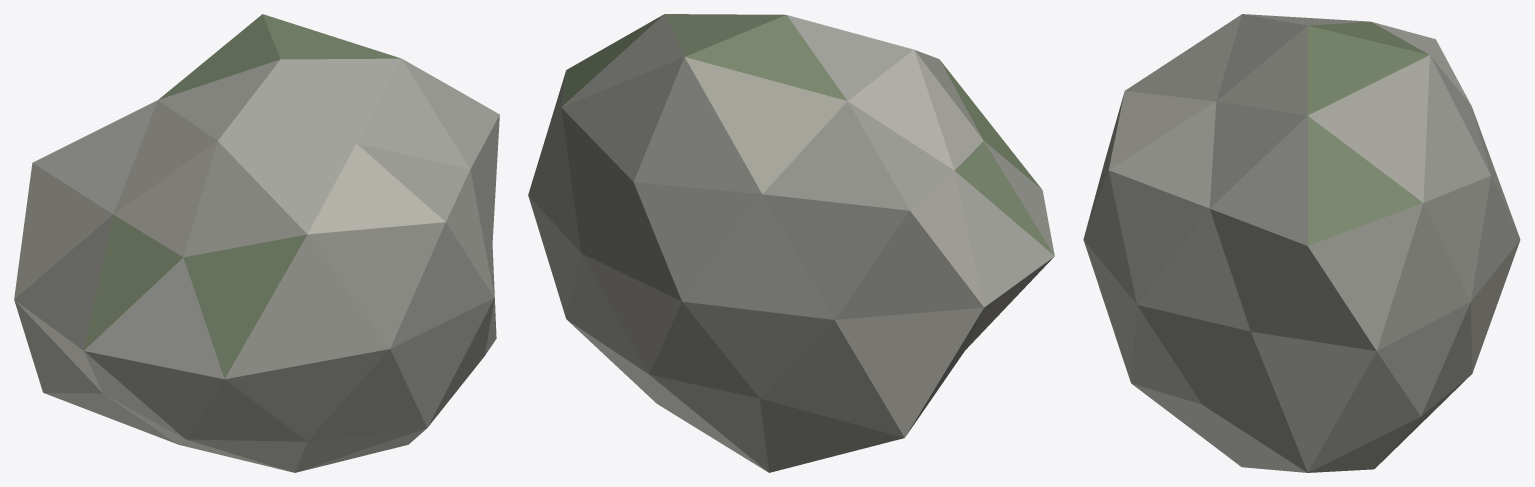
Rendered from small_rock_c.glb.
3 views of the same model, side by side, from view 1: azimuth 30°, elevation 25°; view 2: azimuth 150°, elevation 25°; view 3: azimuth 270°, elevation 25° (orthographic). The views are drawn at different scales.
Visible parts, largest first — view 1: small_rock_c LOD0; view 2: small_rock_c LOD0; view 3: small_rock_c LOD0.
Part boxes in pixels (box(x1,y1,x2,y2)): small_rock_c LOD0: box(14, 14, 499, 472); small_rock_c LOD0: box(528, 14, 1054, 472); small_rock_c LOD0: box(1083, 14, 1520, 472).
Size of what is drawn, in the model's own units: 1.66 by 1.43 by 1.35.
